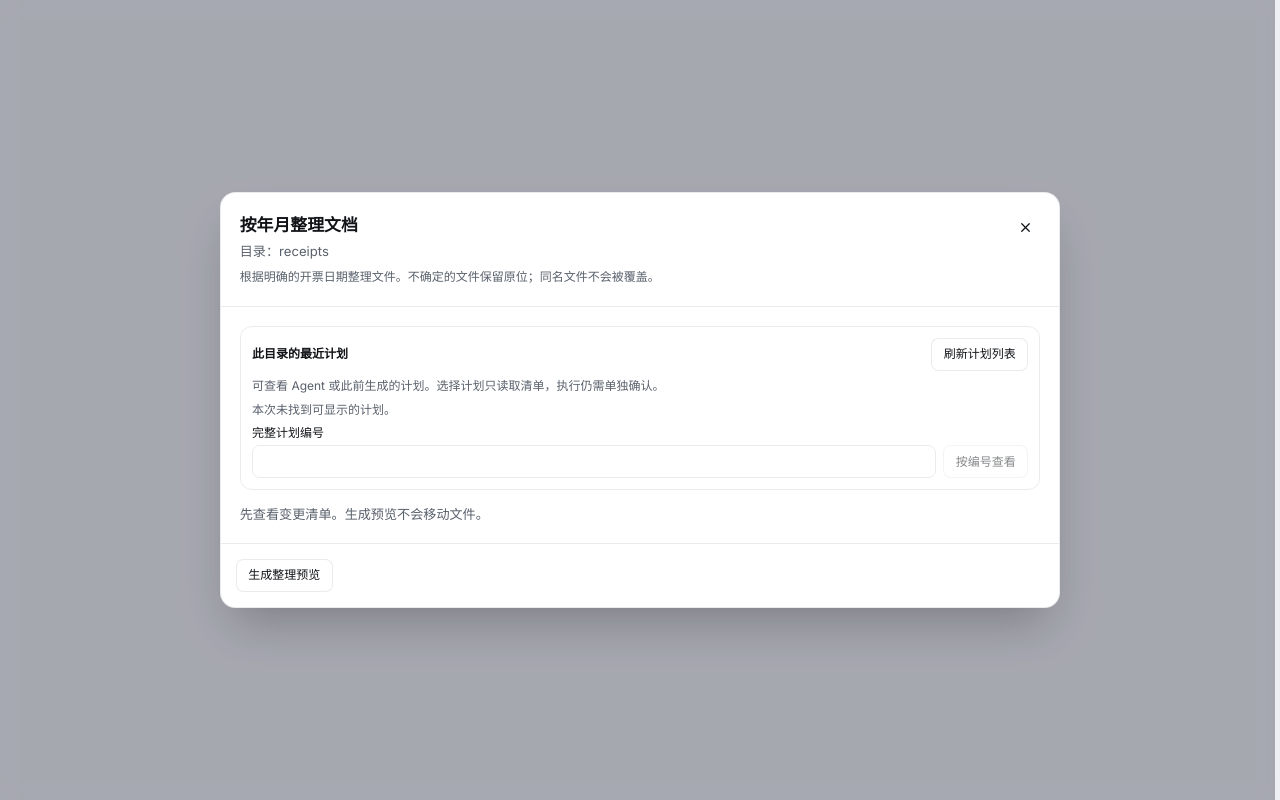
search within the loaded organization plan › locally finds 2026-08 without changing the full plan counts
This screenshot has width=1280, height=800.
Click the button "生成整理预览".
click(284, 575)  # box [236, 559, 332, 592]
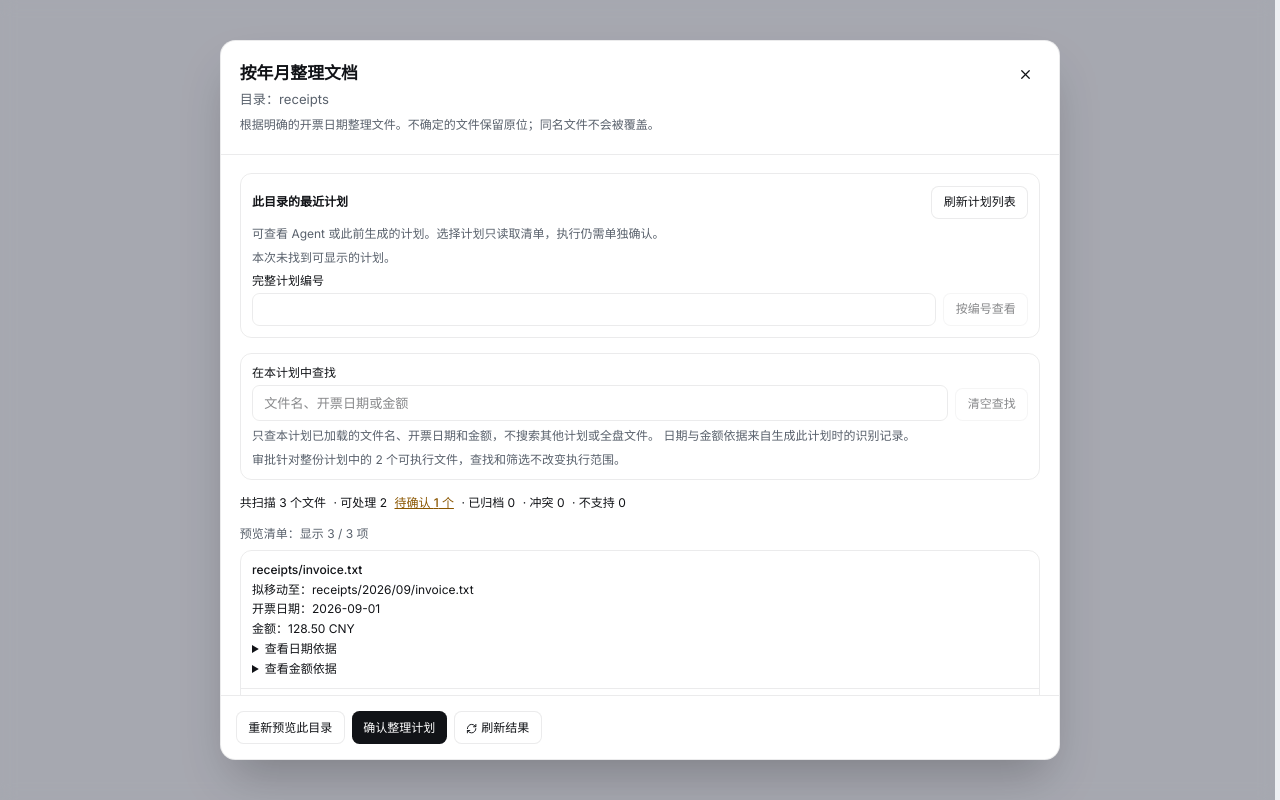
Expected: the text "拟移动至：receipts/2026/09/invoice.txt" is shown, [252, 582, 474, 596]
Type "2026-08" into the search field labelled "在本计划中查找".
click(600, 403); type("2026-08")  # box [252, 385, 948, 421]
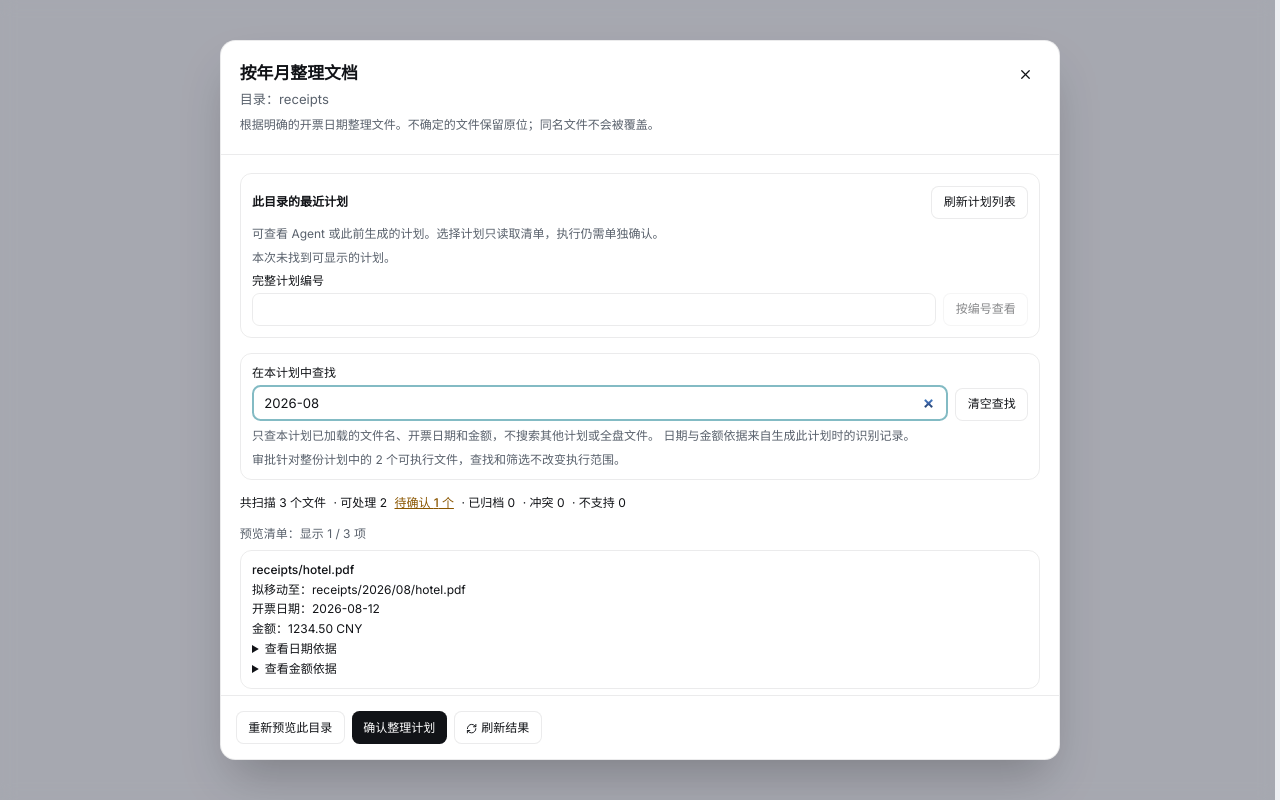
Expected: the text "共扫描 3 个文件" is shown, [240, 495, 326, 511]
Expected: the text "receipts/hotel.pdf" is shown, [252, 562, 354, 577]
Expected: the text "预览清单：显示 1 / 3 项" is shown, [240, 526, 366, 541]
